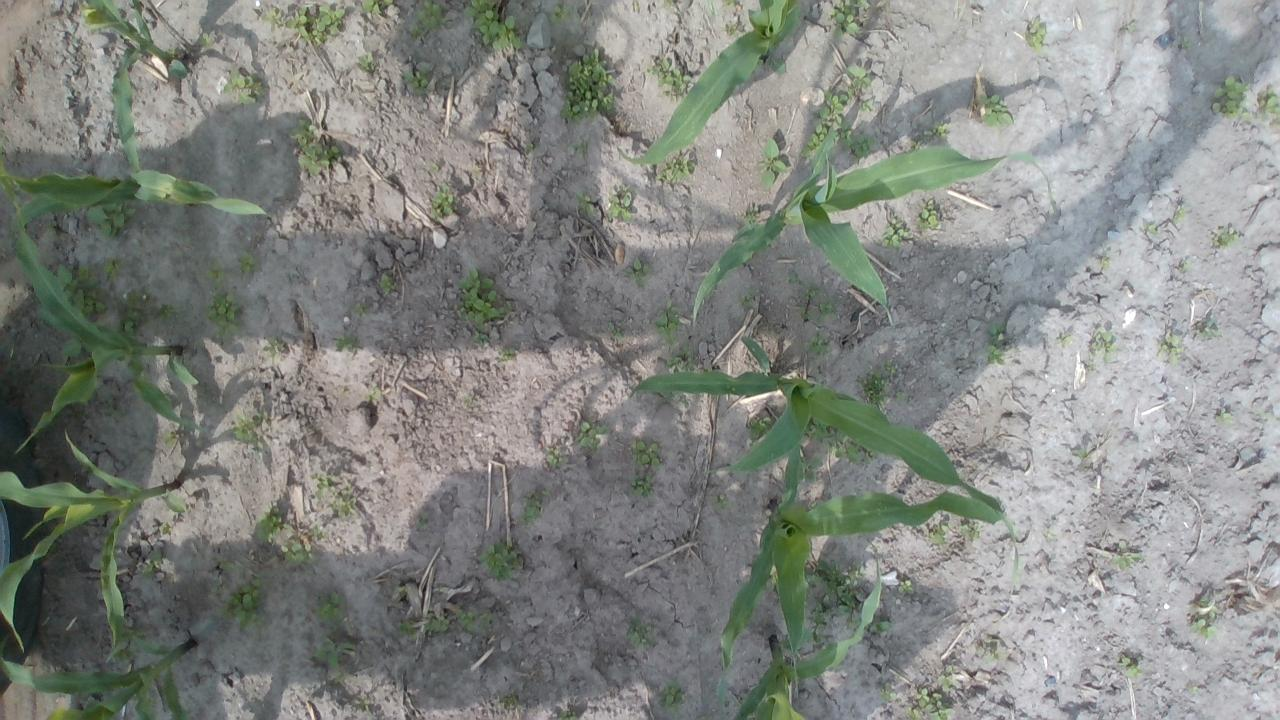Maize: (626, 334, 1024, 587), (714, 437, 1022, 711), (691, 124, 1052, 322), (0, 162, 201, 458), (0, 430, 188, 664), (614, 0, 811, 163), (731, 543, 881, 720), (0, 160, 274, 234), (80, 0, 184, 172), (0, 635, 198, 720)
Weeds: (804, 555, 866, 644), (558, 48, 616, 122), (802, 416, 878, 465), (455, 268, 514, 330), (52, 260, 110, 322), (798, 90, 848, 158), (464, 0, 525, 50), (290, 120, 342, 176), (218, 578, 264, 631), (288, 4, 344, 46), (202, 290, 248, 340), (85, 200, 137, 241), (1210, 74, 1253, 121), (116, 288, 156, 338), (646, 59, 692, 101), (478, 540, 522, 580), (232, 410, 274, 451), (222, 68, 267, 106), (754, 138, 788, 188), (409, 0, 448, 41), (311, 638, 359, 669), (829, 0, 869, 37), (654, 298, 684, 346), (839, 122, 875, 162), (1088, 326, 1119, 372), (1190, 595, 1220, 640), (978, 92, 1015, 128), (856, 370, 891, 407), (916, 687, 955, 720), (520, 488, 552, 527), (256, 502, 284, 544), (312, 592, 348, 624), (574, 420, 610, 452), (654, 156, 695, 184), (606, 184, 634, 222), (986, 322, 1010, 366), (429, 185, 457, 222), (625, 612, 653, 649), (328, 484, 358, 518), (630, 438, 664, 468), (1156, 334, 1186, 366), (658, 680, 686, 714), (1112, 541, 1142, 572), (880, 218, 909, 250), (1257, 85, 1280, 124), (844, 65, 872, 97), (802, 330, 836, 356), (664, 346, 696, 373), (1025, 15, 1047, 54), (281, 542, 315, 566), (625, 256, 652, 286), (914, 200, 940, 230), (309, 472, 337, 499), (403, 66, 428, 96), (748, 415, 772, 446), (797, 457, 824, 484), (628, 471, 655, 498), (757, 50, 787, 74), (154, 300, 182, 324), (142, 550, 164, 580), (922, 522, 949, 546), (981, 636, 1002, 666), (261, 8, 288, 31), (1211, 226, 1239, 248), (921, 121, 950, 142), (544, 445, 568, 470), (102, 256, 125, 282), (204, 262, 227, 288), (333, 332, 360, 354), (424, 613, 452, 634), (455, 609, 479, 633), (570, 134, 592, 160), (662, 390, 692, 408), (1119, 654, 1142, 677), (263, 336, 285, 360), (237, 250, 261, 272), (818, 298, 838, 323), (378, 272, 398, 296), (361, 0, 394, 14), (868, 615, 892, 634), (938, 664, 955, 690), (356, 51, 376, 72), (362, 386, 383, 406), (739, 287, 756, 311), (576, 192, 596, 212), (960, 520, 980, 540), (801, 281, 822, 300), (162, 430, 180, 452), (396, 618, 418, 636), (1202, 317, 1220, 339), (878, 682, 897, 702), (742, 206, 761, 226), (550, 6, 572, 23), (349, 302, 371, 317), (500, 693, 520, 709), (113, 648, 135, 662), (796, 304, 814, 321), (1215, 409, 1233, 426), (608, 321, 624, 340), (714, 493, 731, 510), (480, 612, 498, 628), (216, 555, 235, 570), (1058, 333, 1074, 350), (472, 330, 491, 344), (497, 348, 516, 362), (197, 31, 213, 47), (558, 709, 581, 720), (905, 706, 923, 720), (416, 511, 429, 530), (100, 408, 122, 419), (310, 524, 325, 540), (1173, 206, 1188, 222), (899, 580, 916, 594), (1044, 523, 1058, 540), (46, 219, 59, 236), (859, 98, 874, 112), (906, 138, 922, 151), (724, 24, 739, 37), (1100, 252, 1112, 268), (788, 270, 801, 284), (884, 359, 897, 373), (524, 140, 536, 155), (1070, 448, 1088, 458), (894, 390, 909, 402), (1180, 36, 1192, 49), (334, 670, 345, 684), (1146, 223, 1158, 235), (461, 393, 473, 404), (158, 524, 170, 534), (1178, 262, 1190, 272), (428, 163, 440, 172), (721, 0, 736, 7), (663, 0, 675, 8), (210, 587, 220, 595), (396, 586, 406, 594), (167, 48, 176, 55)
